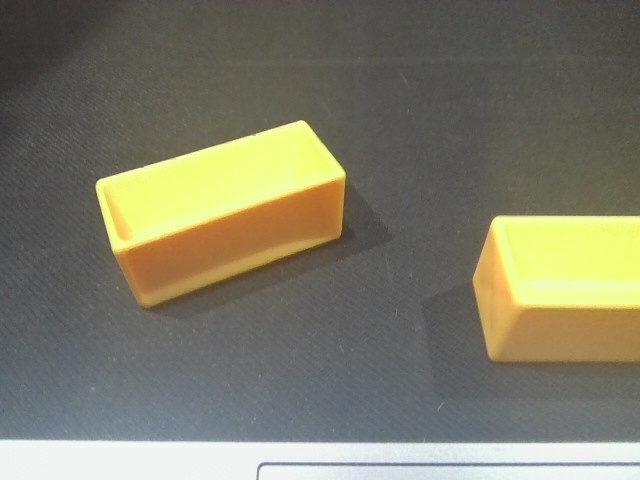YellowSample: (94, 119, 348, 312), (467, 209, 640, 365)
